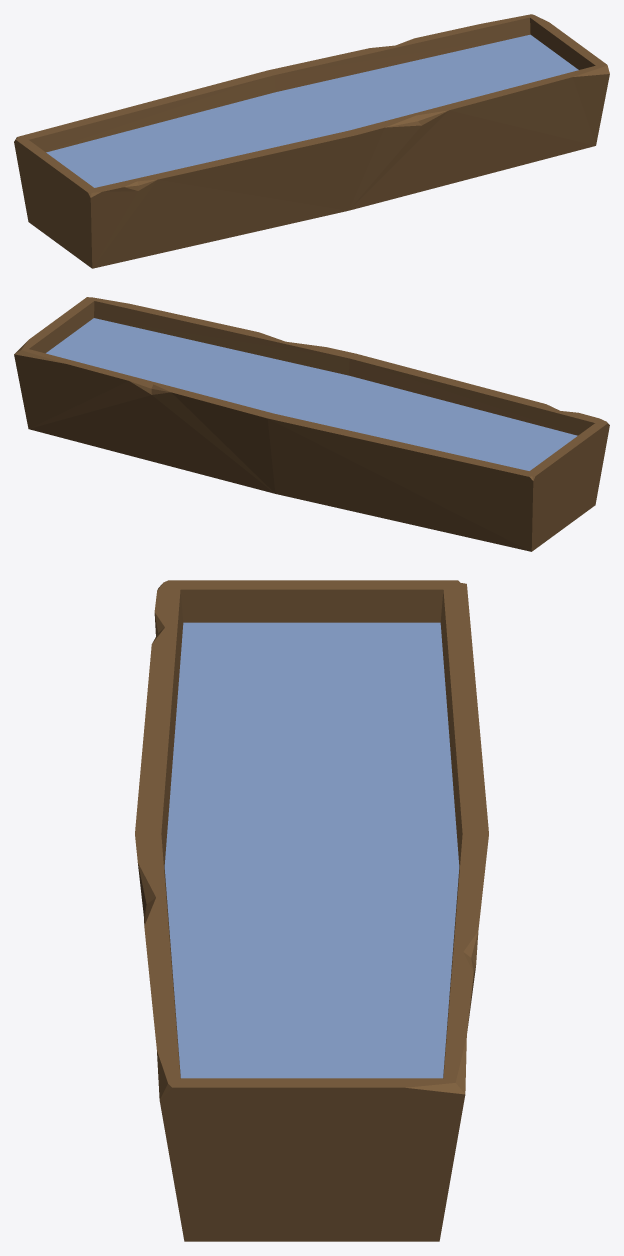
File: Mesh_Props_Water_02.FBX
3 renders of one model, top to bottom at view 1: azimuth 30°, elevation 25°; view 2: azimuth 150°, elevation 25°; view 3: azimuth 270°, elevation 25°, orthographic. The views are drawn at different scales.
Parts seen in each view (by area): view 1: Mesh_Props_Water_02; view 2: Mesh_Props_Water_02; view 3: Mesh_Props_Water_02.
Part boxes in pixels (box(x1,y1,x2,y2)): Mesh_Props_Water_02: box(14, 14, 609, 268); Mesh_Props_Water_02: box(14, 297, 609, 551); Mesh_Props_Water_02: box(135, 580, 488, 1241).
Size of what is drawn, in the model's own units: 176 by 51.92 by 26.23.
